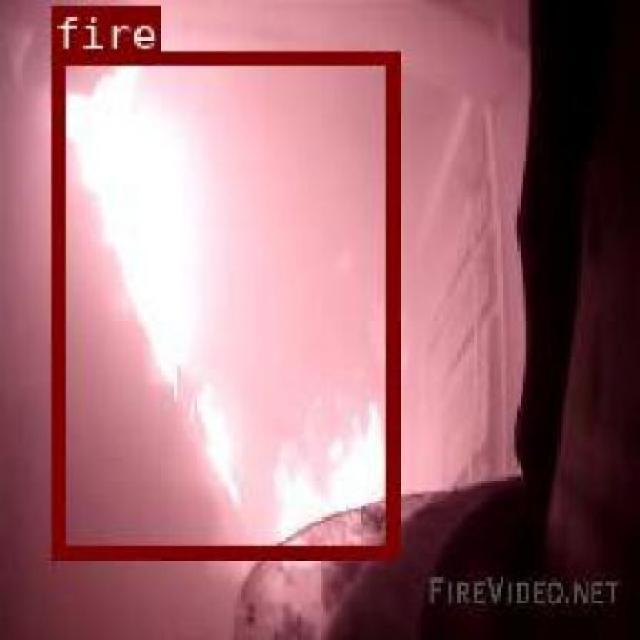Fire: (222, 302, 345, 506)
